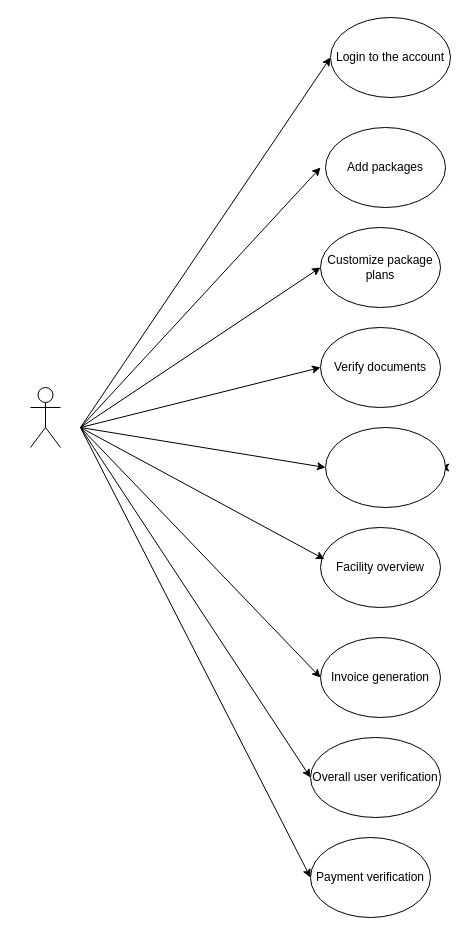
The diagram is 471 pixels wide and 935 high, and some of its shapes have lost their labels. The centre of each missing label's shape, as x and y in pixels:
"Consultant" goes at pixel 45 417.
"Handle live chat and report to agency" goes at pixel 385 467.
